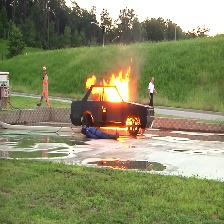fire: (83, 59, 138, 104)
